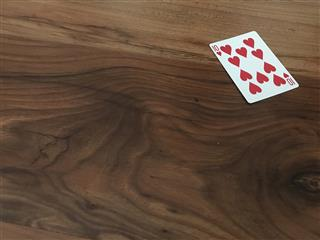TenOfHearts: (207, 29, 299, 103)
